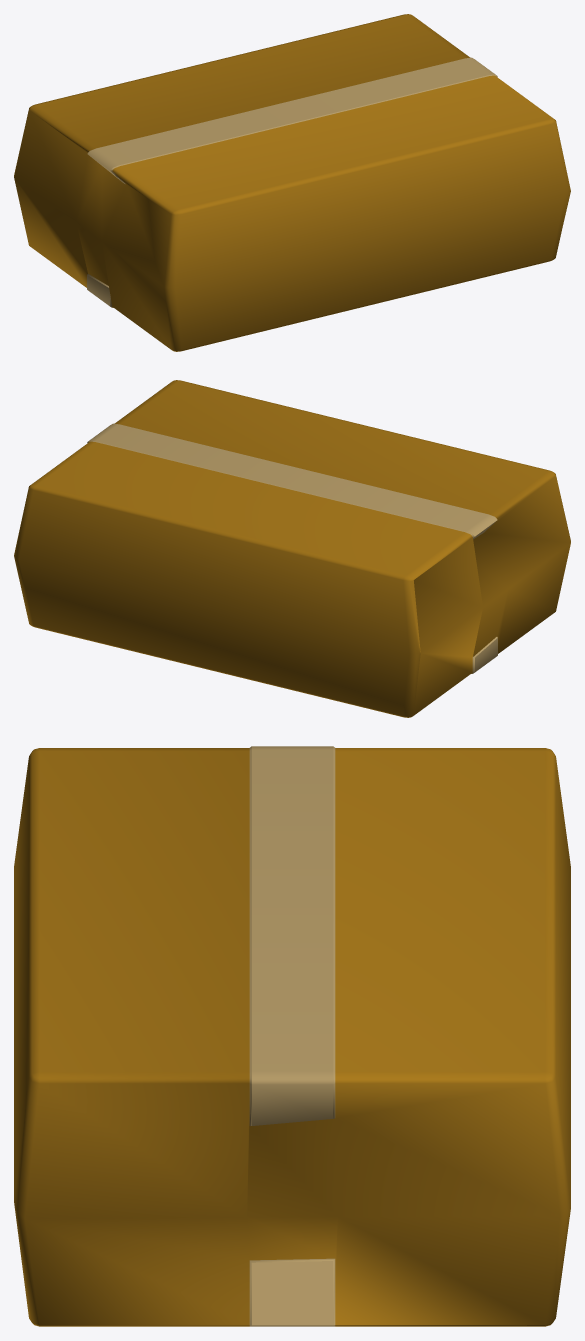
File: Box_Model_crushed(3x2x2).fbx
The picture shows the model from 3 angles, top to bottom: view 1: azimuth 30°, elevation 25°; view 2: azimuth 150°, elevation 25°; view 3: azimuth 270°, elevation 25°; orthographic projection. The views are drawn at different scales.
Parts seen in each view (by area): view 1: 3x2x2_crushed; view 2: 3x2x2_crushed; view 3: 3x2x2_crushed.
Boxes of the visible parts, x1,y1,x2,y2 form: 3x2x2_crushed: (14, 14, 570, 351); 3x2x2_crushed: (14, 380, 570, 717); 3x2x2_crushed: (14, 746, 570, 1326).
Size of the model in its own units: 30 by 10 by 20.
